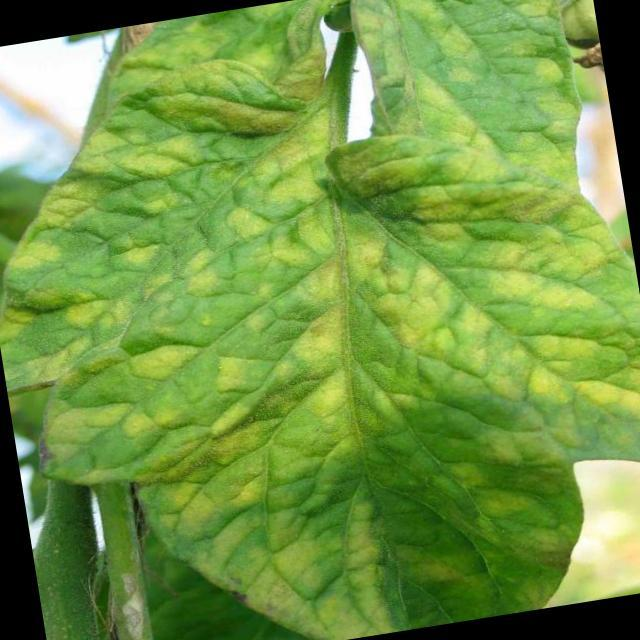Leaf Mold: (0, 143, 639, 639), (344, 0, 589, 169)
